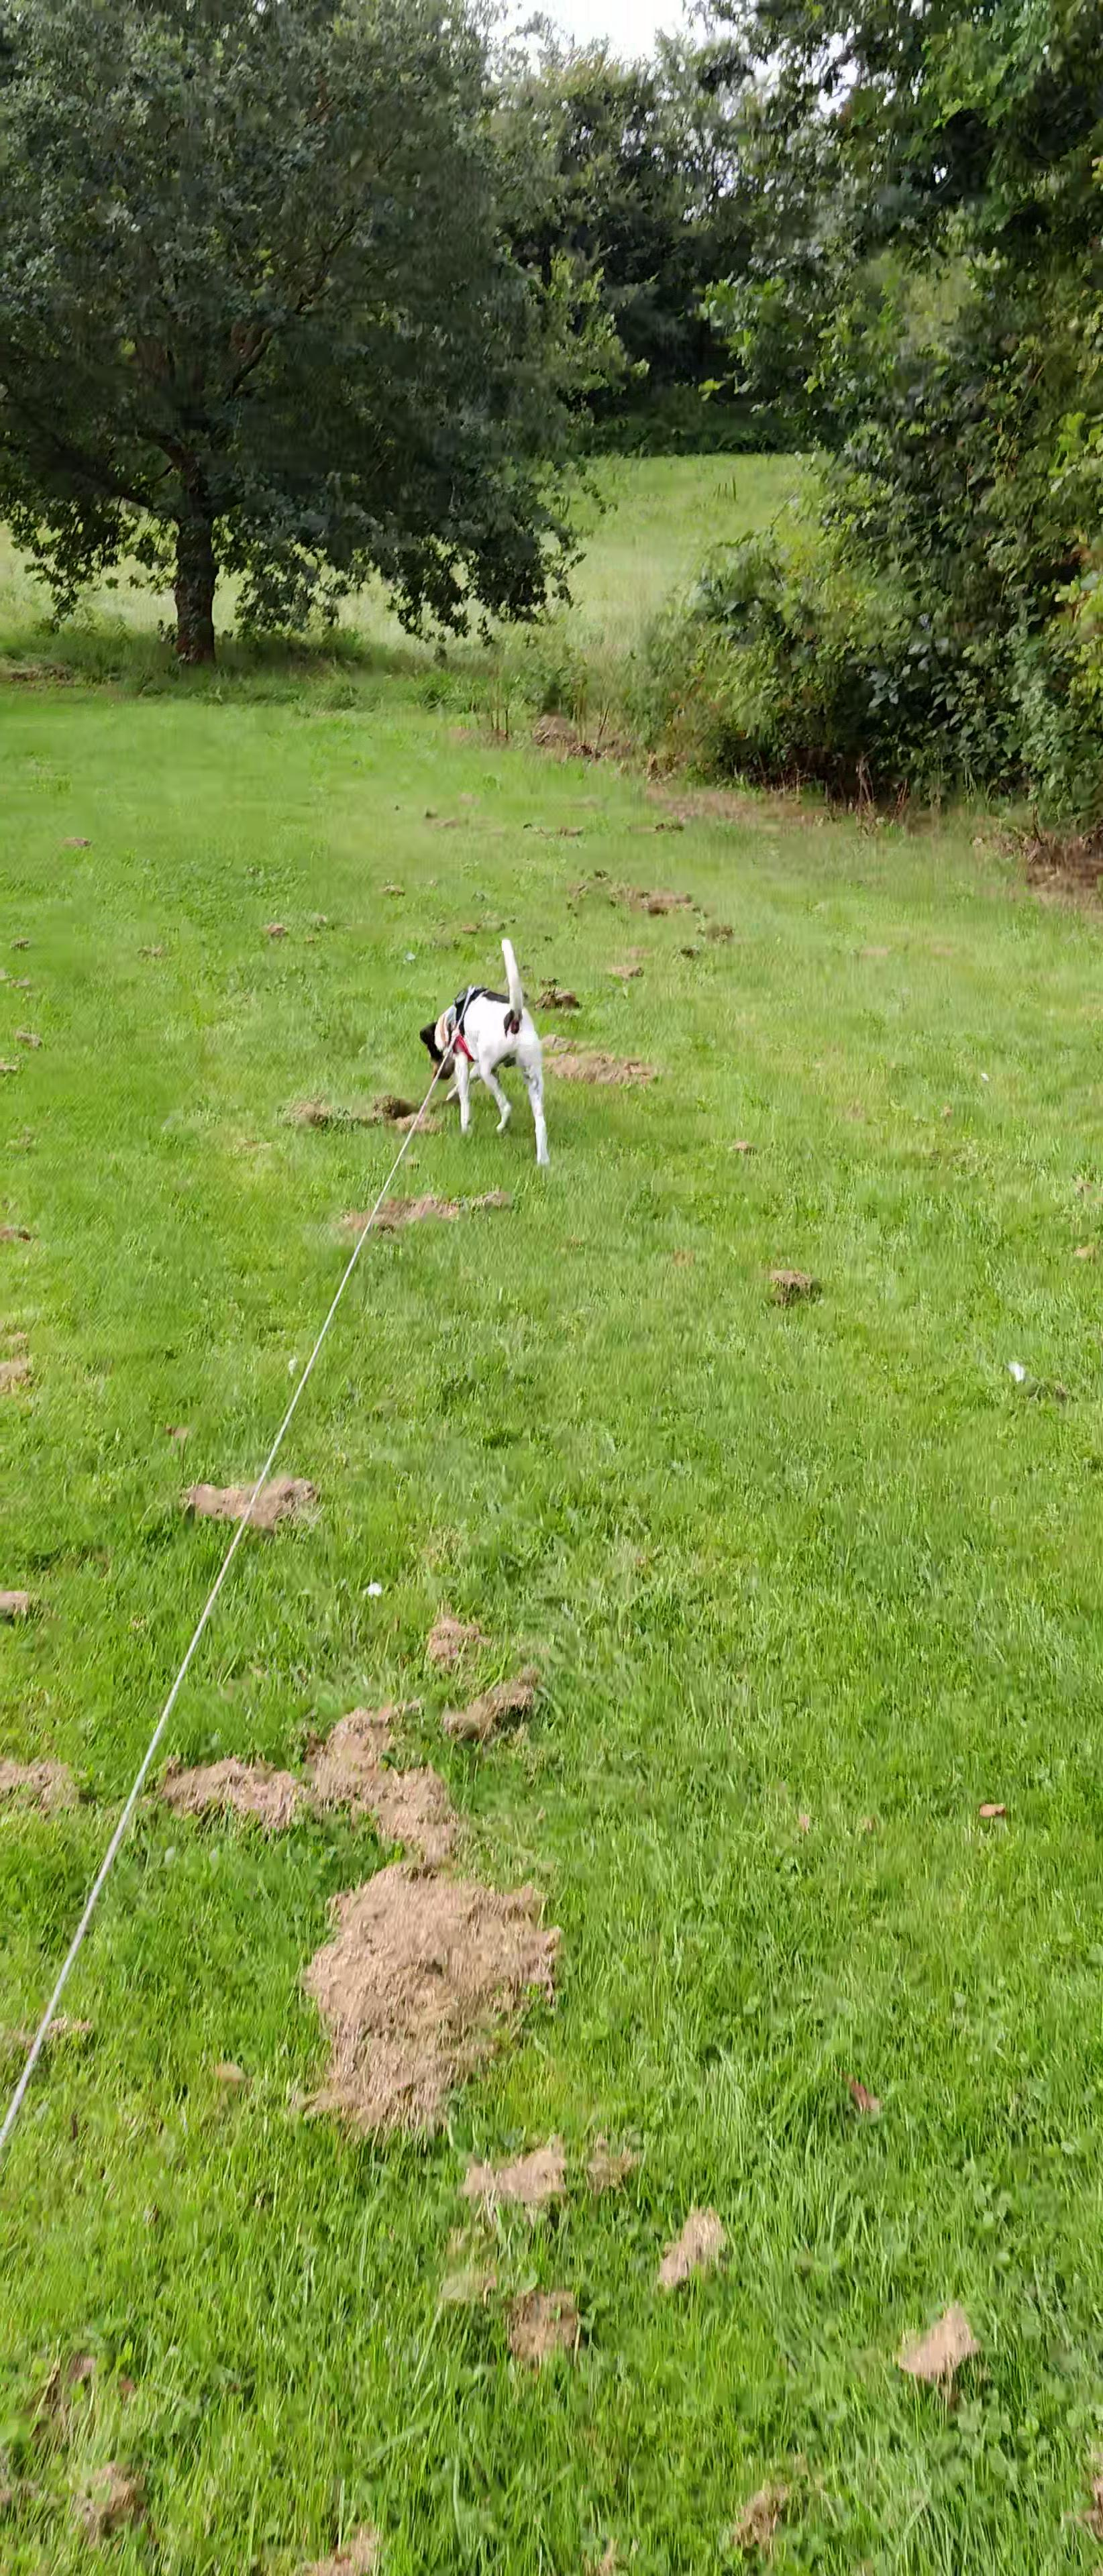Dog: (416, 931, 565, 1168)
